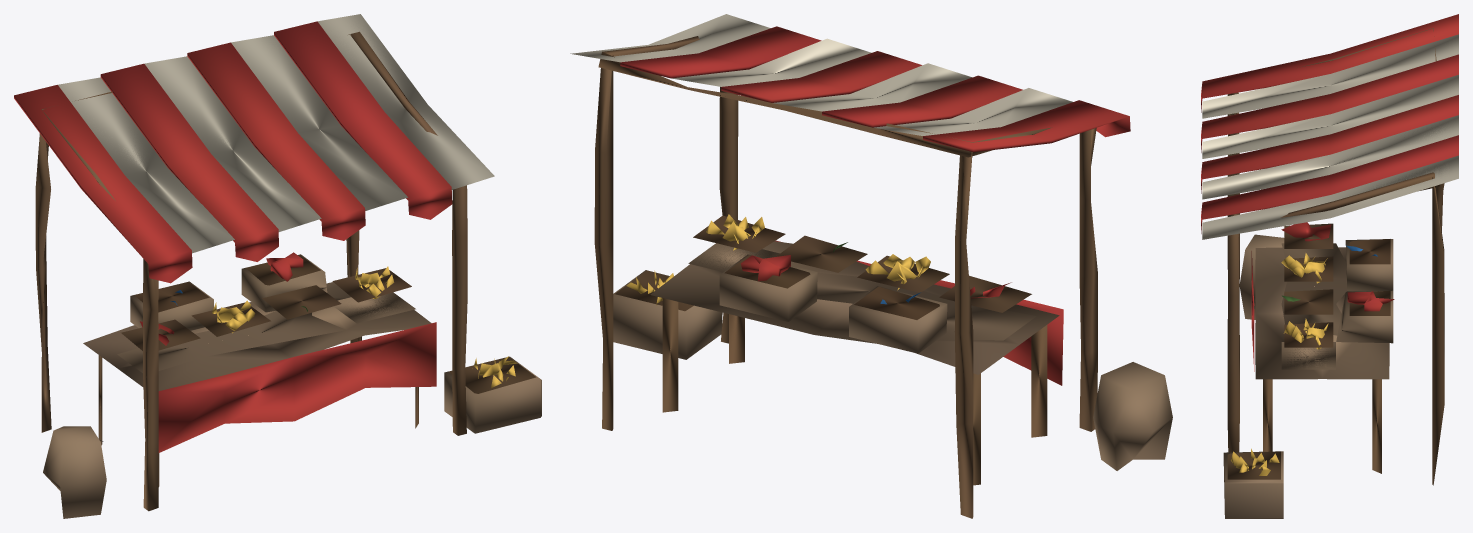
File: biz_stall_t1_fruit.glb
The picture shows the model from 3 angles, left to right: view 1: azimuth 30°, elevation 25°; view 2: azimuth 150°, elevation 25°; view 3: azimuth 270°, elevation 25°; orthographic projection. The views are drawn at different scales.
Visible parts, largest first — view 1: cloth_red, cloth_cream, wood, wood_dark, cloth_gold; view 2: wood_dark, wood, cloth_red, cloth_cream, cloth_gold; view 3: cloth_red, cloth_cream, wood, wood_dark, cloth_gold.
Part boxes in pixels (x1,y1,x2,y2): cloth_red: (14, 21, 452, 452); cloth_cream: (58, 14, 494, 253); wood: (43, 254, 541, 518); wood_dark: (35, 31, 536, 511); cloth_gold: (212, 266, 517, 388); wood_dark: (594, 36, 1097, 518); wood: (613, 241, 1172, 470); cloth_red: (620, 26, 1130, 385); cloth_cream: (570, 14, 1072, 135); cloth_gold: (626, 214, 930, 305); cloth_red: (1201, 14, 1458, 371); cloth_cream: (1202, 34, 1458, 239); wood: (1223, 234, 1393, 518); wood_dark: (1227, 28, 1444, 485); cloth_gold: (1231, 253, 1328, 475).
Bounding box in the file's own units: 3.78 × 2.56 × 1.89.
